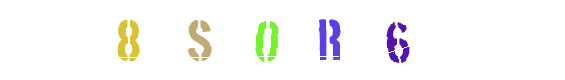0: (227, 0, 307, 80)
6: (320, 0, 400, 80)
8: (88, 0, 168, 80)
R: (243, 0, 323, 80)
S: (167, 0, 247, 80)
